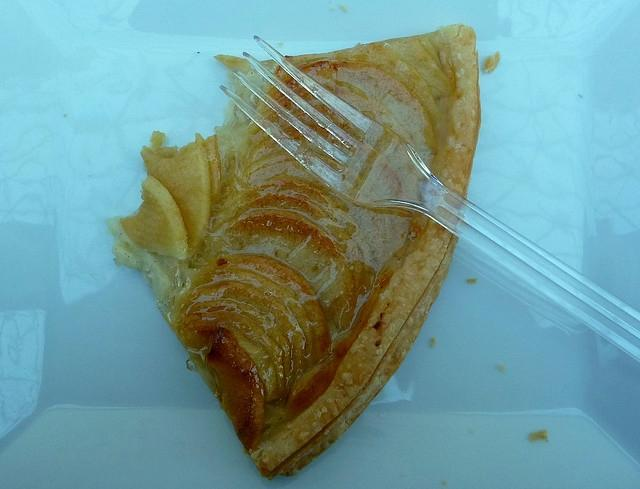apple: (186, 206, 356, 336), (256, 59, 434, 168), (241, 150, 395, 260), (214, 193, 366, 296), (200, 252, 332, 364), (176, 280, 308, 382), (190, 266, 316, 372), (174, 325, 264, 450), (187, 298, 295, 397), (177, 310, 287, 399), (196, 320, 278, 404), (247, 160, 353, 214), (293, 95, 406, 140), (248, 90, 324, 140), (246, 125, 329, 163)
